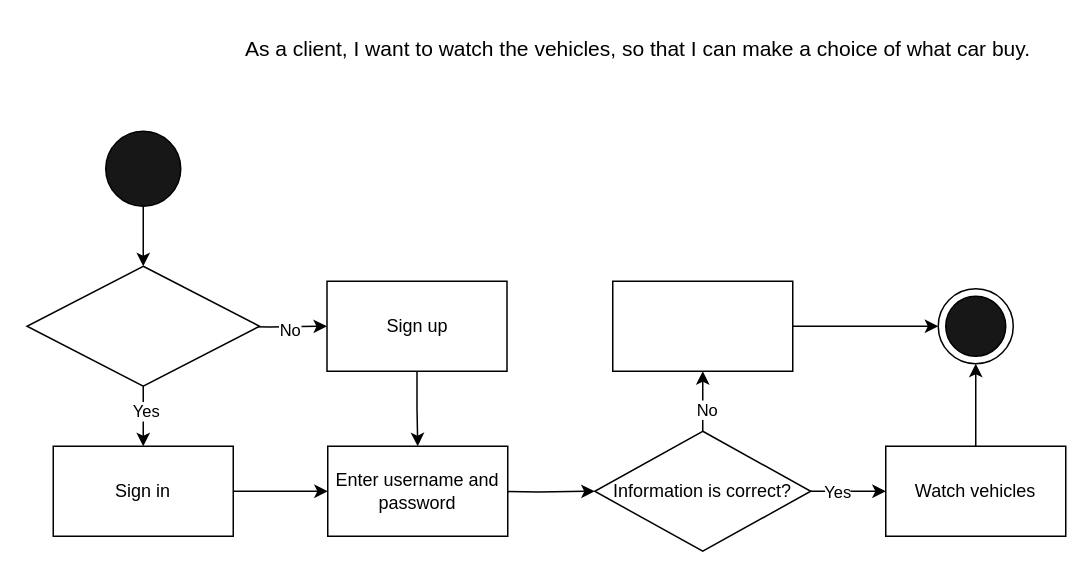
Image size: 1092x578. Some labels were removed from this diagram. Here are the shapes that lost their labels. From the top down, the box of each, then its label:
(26, 265, 260, 386): User is registered?
(611, 280, 793, 371): Show error message
